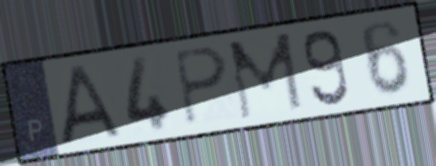4: (123, 51, 174, 135)
6: (358, 17, 412, 99)
9: (301, 28, 351, 107)
A: (59, 61, 124, 148)
M: (225, 29, 307, 124)
P: (170, 44, 231, 130)
